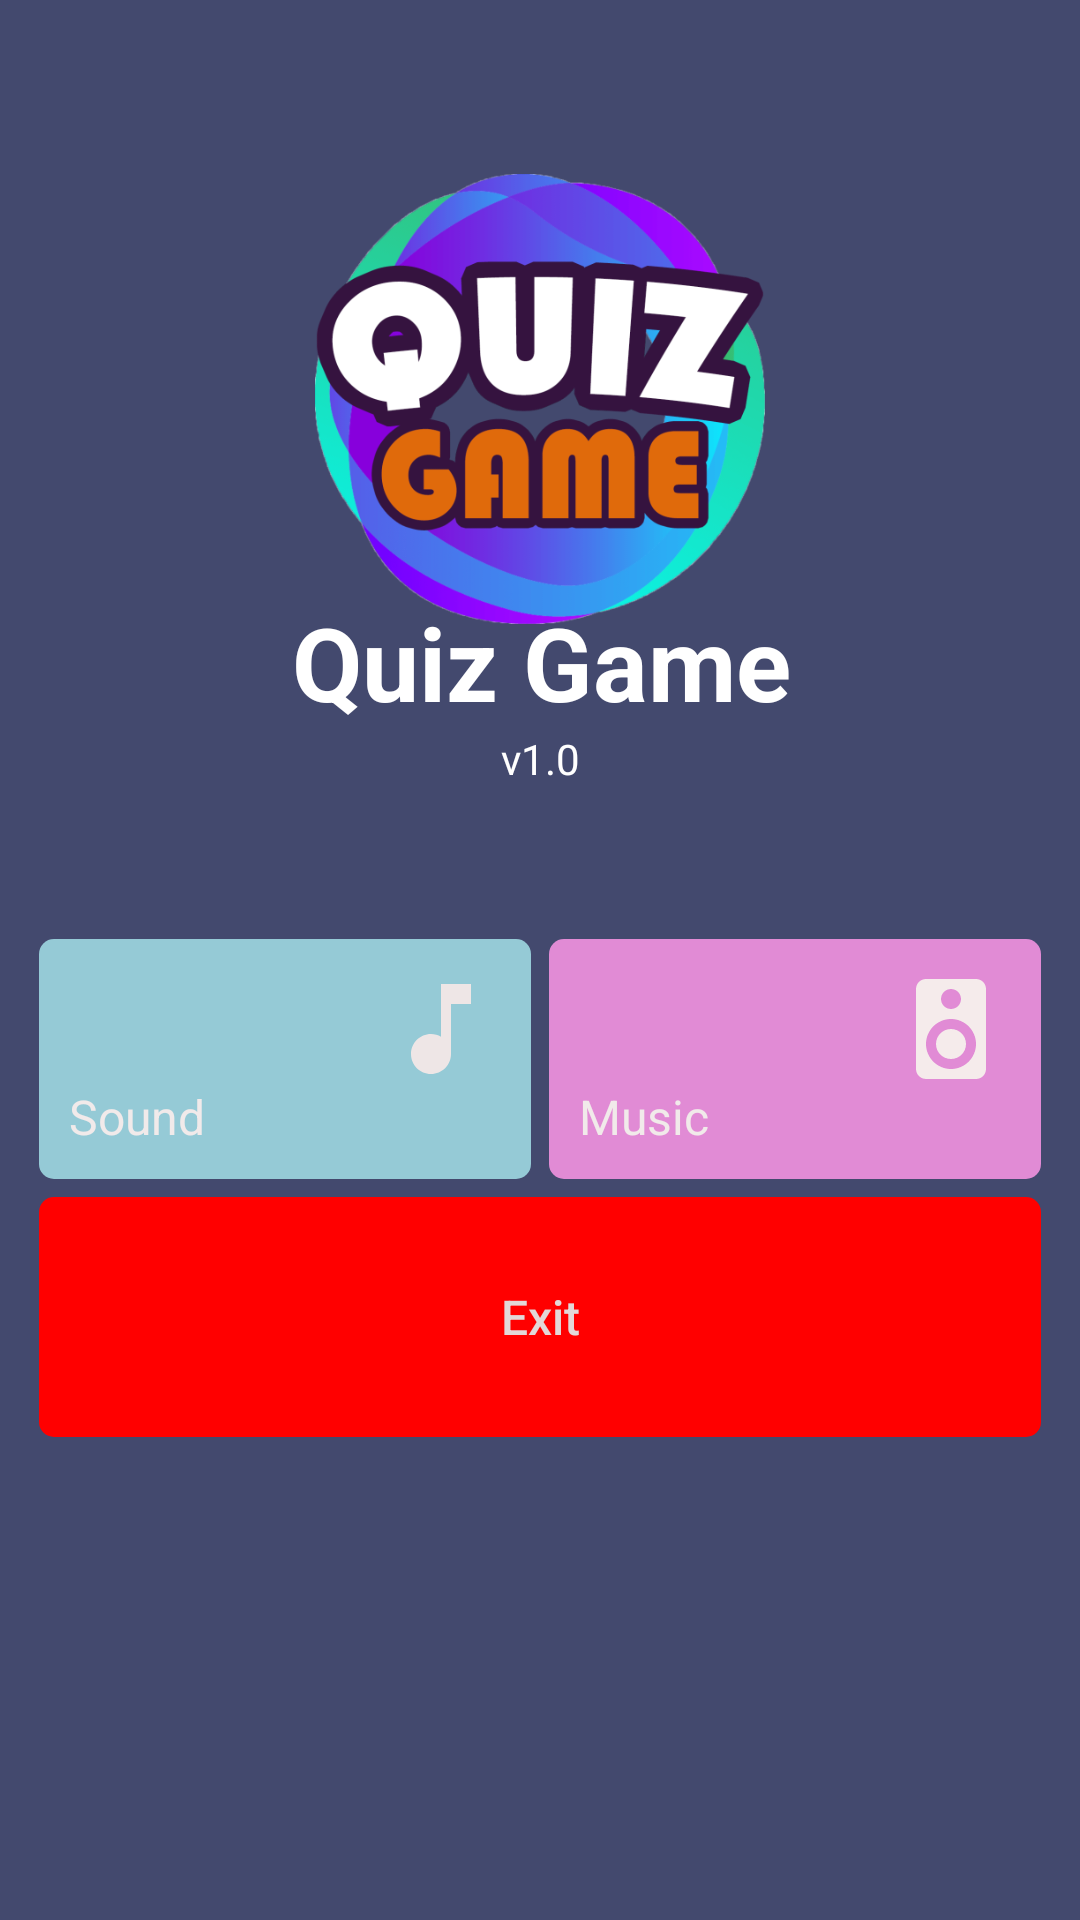

Screen size 1080px×1920px. Icon name, then its box in pixels as (x1,y1,x2,y2):
speaker: (916,979,986,1079)
